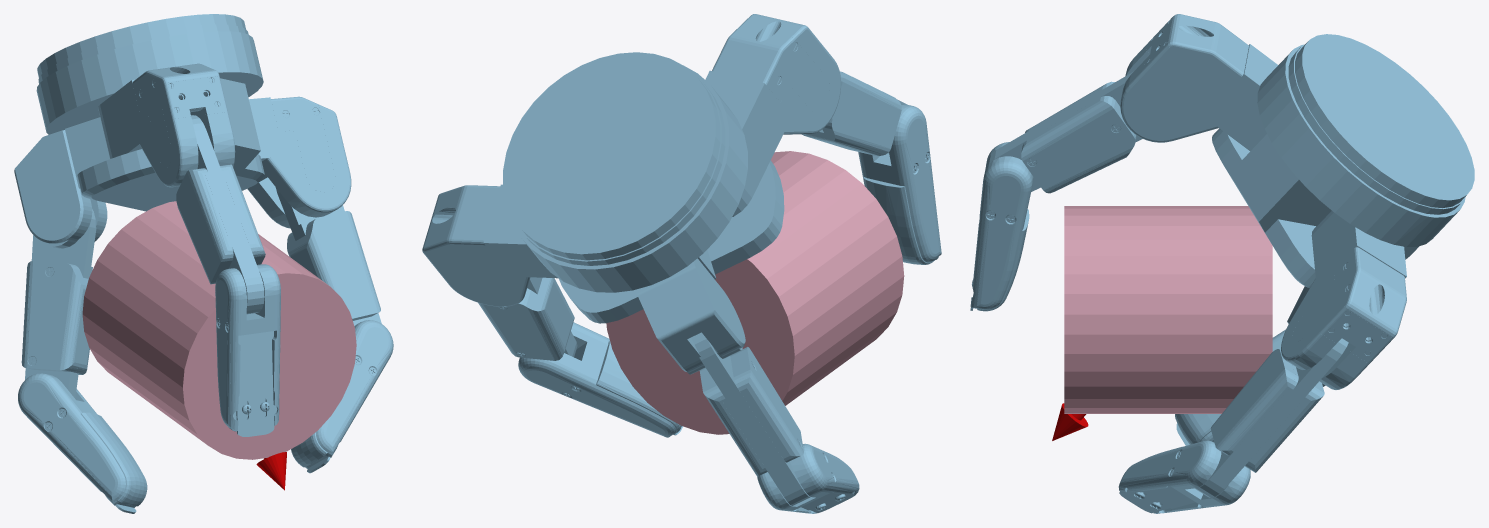
The picture shows the model from 3 angles, left to right: view 1: azimuth 30°, elevation 25°; view 2: azimuth 150°, elevation 25°; view 3: azimuth 270°, elevation 25°; orthographic projection. The views are drawn at different scales.
Parts seen in each view (by area): view 1: world, cylinder_medium.stl; view 2: world, cylinder_medium.stl; view 3: world, cylinder_medium.stl.
Boxes of the visible parts, left/top/right/bottom form: world: left=14, top=14, right=393, bottom=513; cylinder_medium.stl: left=82, top=201, right=356, bottom=459; world: left=422, top=14, right=941, bottom=513; cylinder_medium.stl: left=606, top=151, right=904, bottom=434; world: left=970, top=14, right=1474, bottom=513; cylinder_medium.stl: left=1064, top=206, right=1272, bottom=413.
Size of the model in its own units: 0.1543 by 0.1915 by 0.1937.
